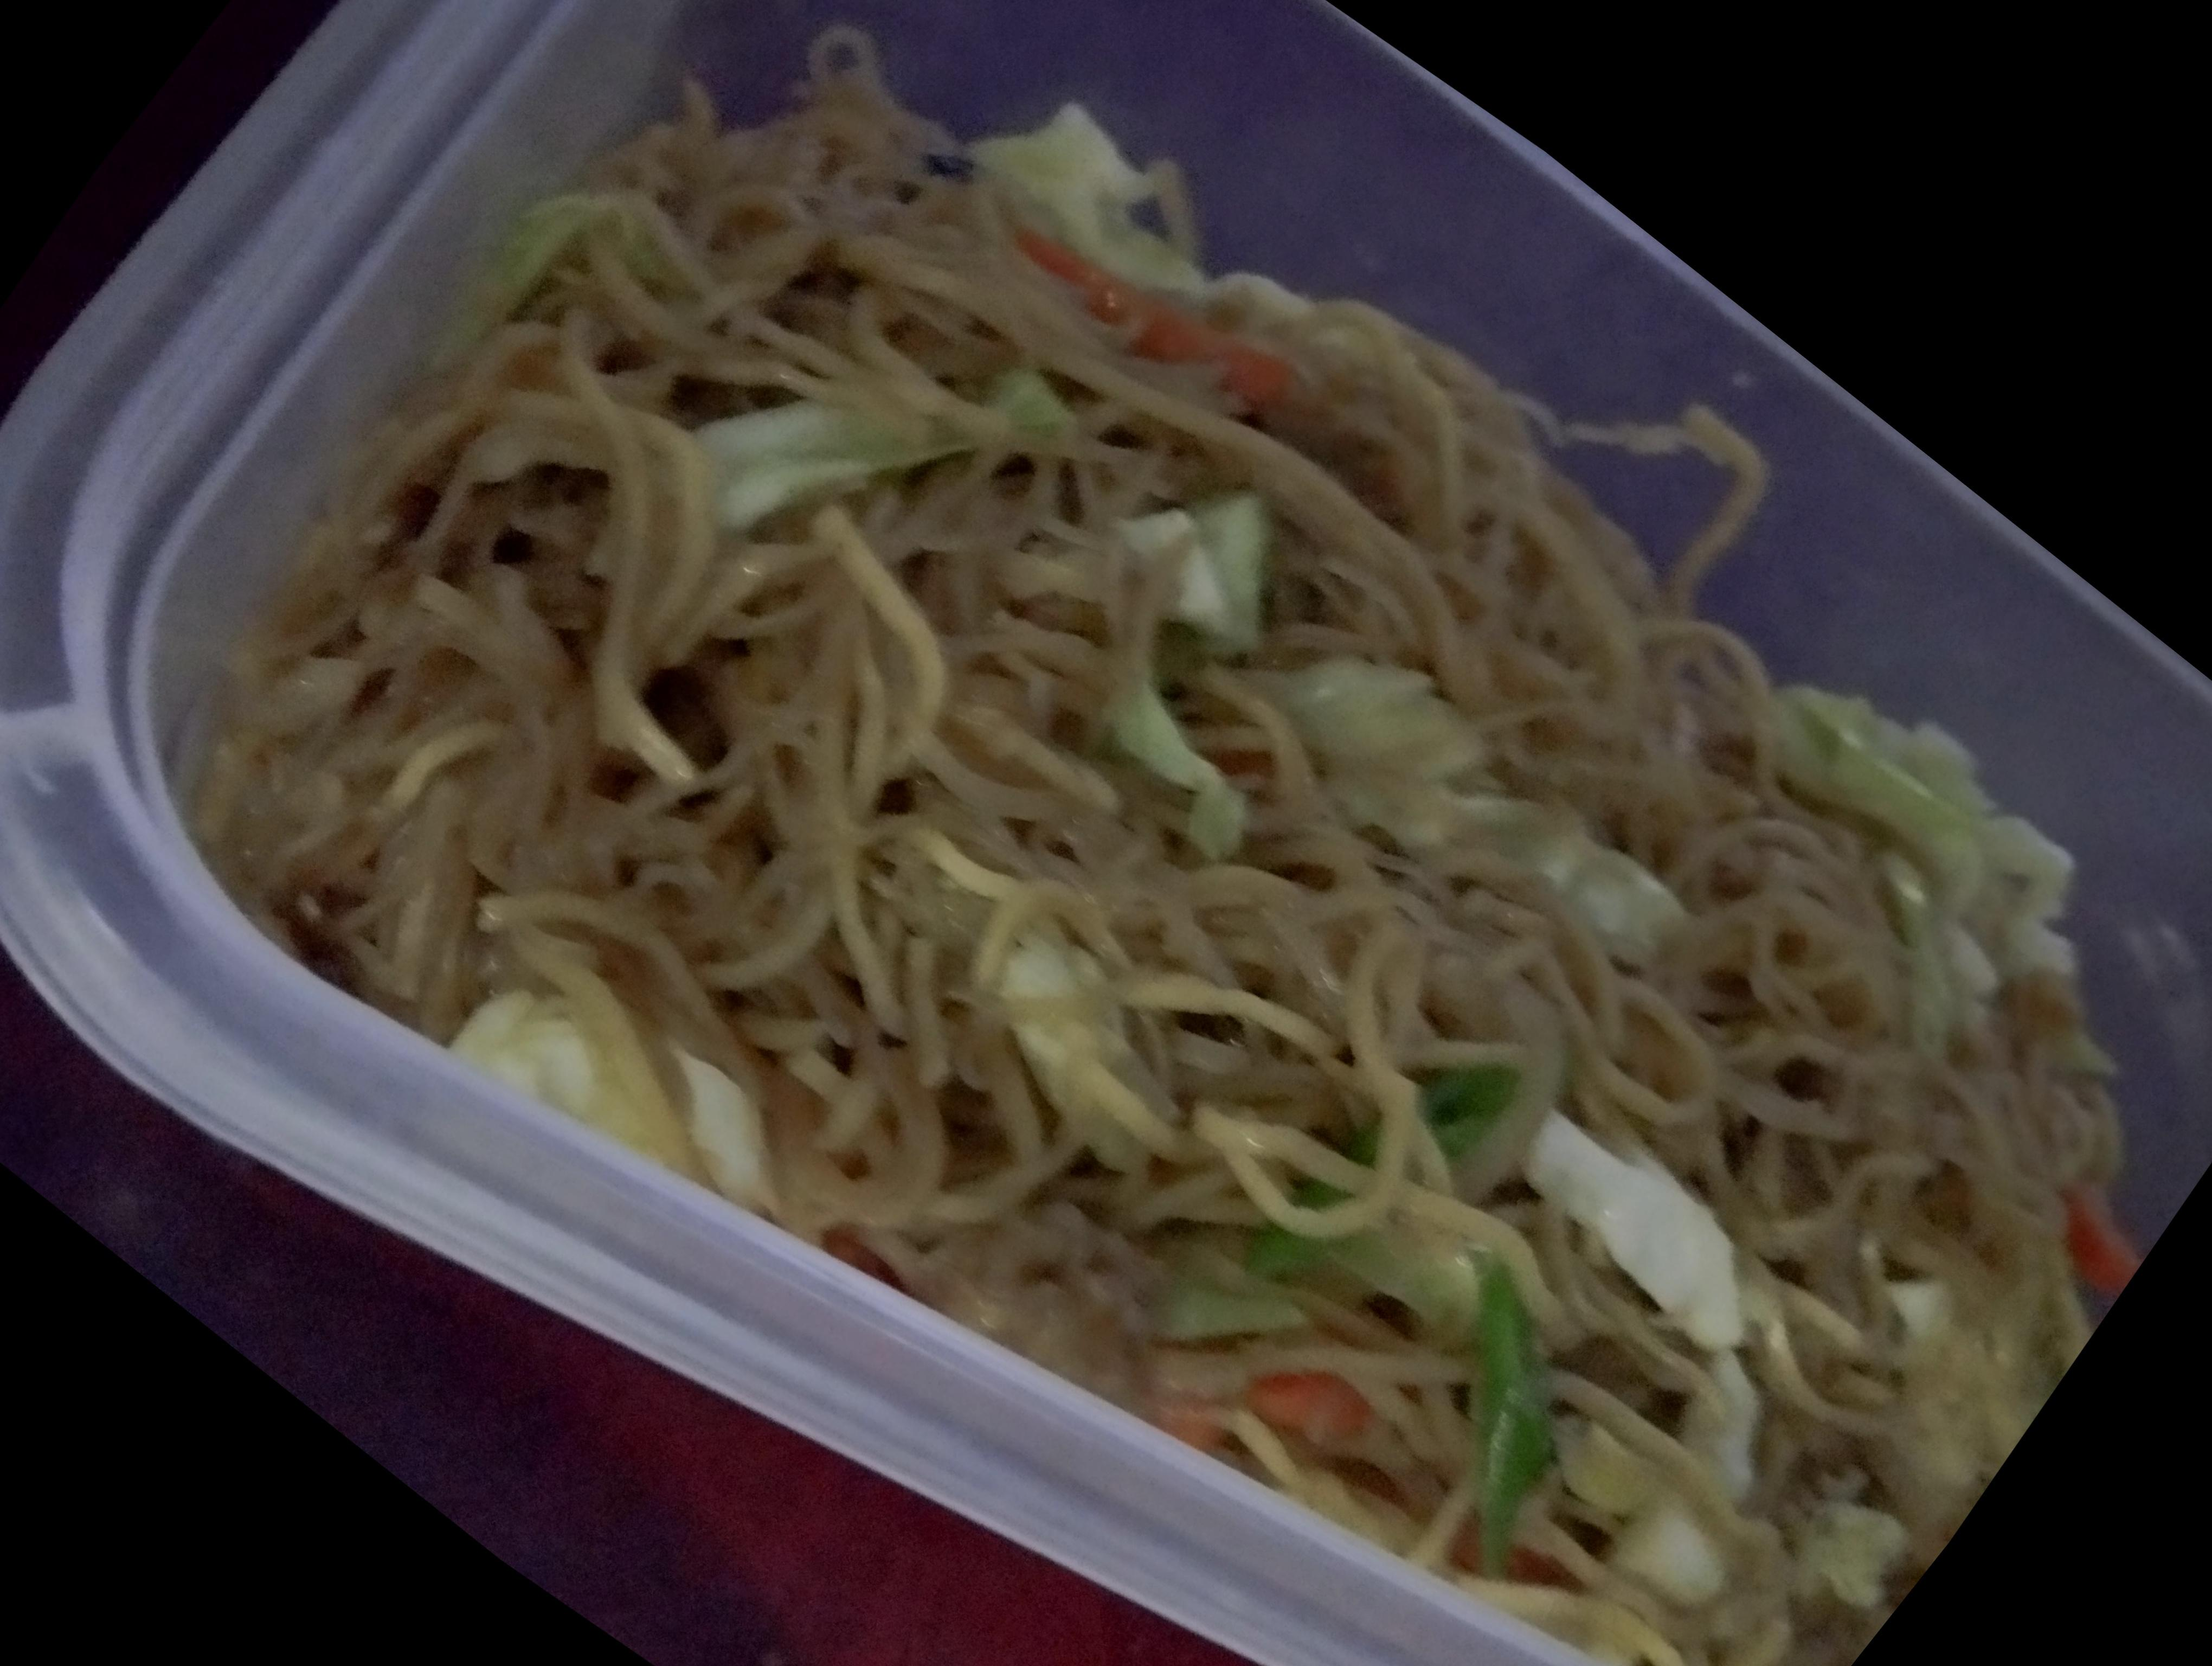pancit bihon: (122, 98, 2109, 1663)
